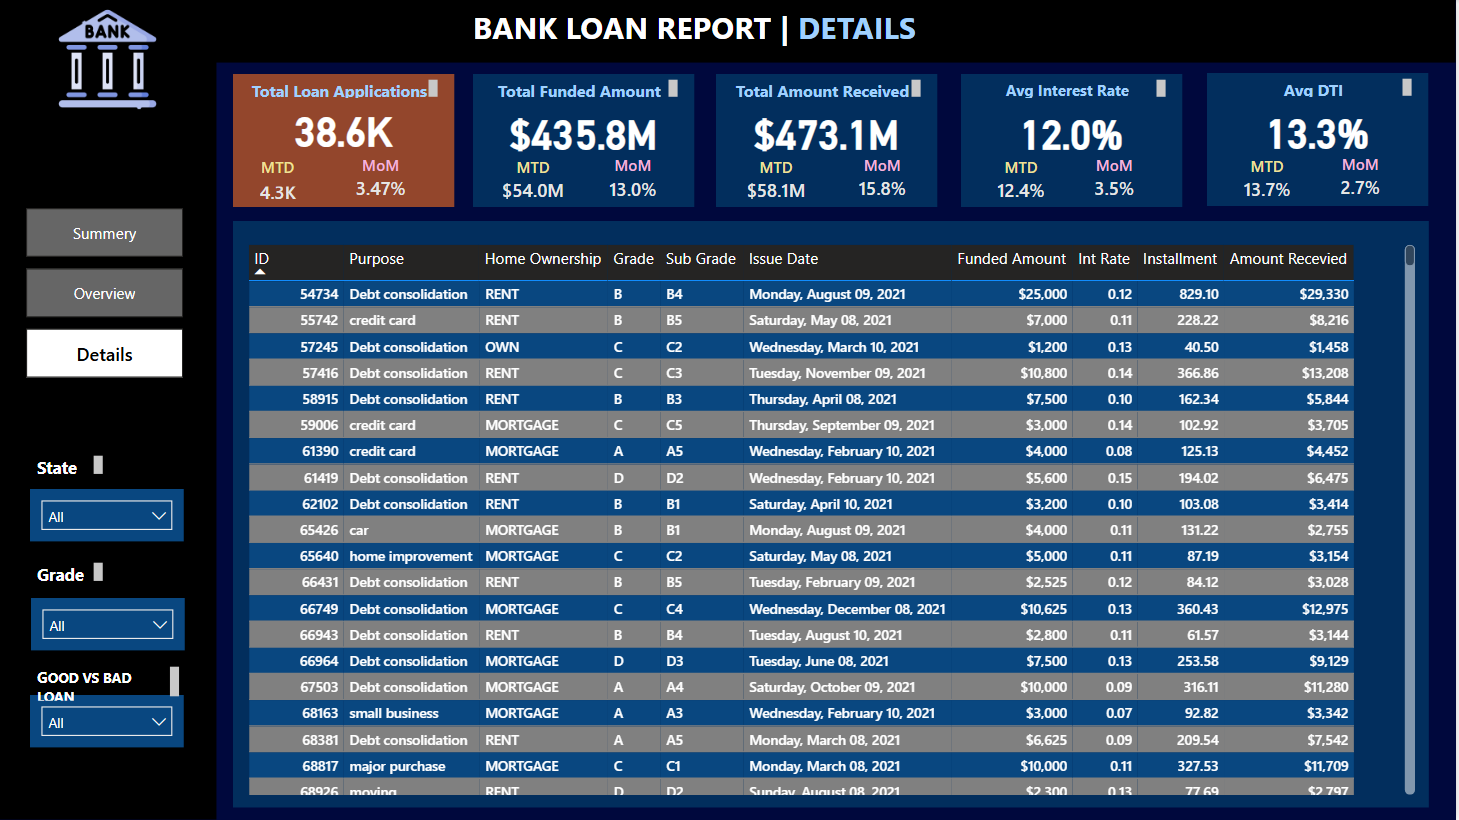

The dashboard page shown, as its layout file describes it:
{"tool":"powerbi","page":{"name":"Details","canvas":[1280,720],"ordinal":2},"visuals":[{"type":"shape","box":[0,36,192,683.8],"z":0},{"type":"shape","box":[1061.2,64.2,194.5,116.7],"z":0,"group":"g5"},{"type":"shape","box":[206.2,65.2,194.5,116.7],"z":0,"group":"g1"},{"type":"shape","box":[417.3,65.2,194.5,116.7],"z":0,"group":"g2"},{"type":"shape","box":[630.3,65.2,194.5,116.7],"z":0,"group":"g3"},{"type":"shape","box":[845.2,65.2,194.5,116.7],"z":0,"group":"g4"},{"type":"shape","box":[0,0,1280,55],"z":1000},{"type":"card","fields":{"Values":["Measures (2).Total Loan Application"]},"box":[241.2,91.5,123.5,42.8],"z":1000,"group":"g1"},{"type":"card","fields":{"Values":["Measures (2).Avg DTI"]},"box":[1066.8,92.1,182.9,44.7],"z":1000,"group":"g5"},{"type":"card","fields":{"Values":["Measures (2).Total Funded Amount"]},"box":[422.9,93.1,182.9,44.7],"z":1000,"group":"g2"},{"type":"card","fields":{"Values":["Measures (2).Total Amount Recevied"]},"box":[635.9,93.1,182.9,44.7],"z":1000,"group":"g3"},{"type":"card","fields":{"Values":["Measures (2).Avg Interest Rate"]},"box":[850.8,93.1,182.9,44.7],"z":1000,"group":"g4"},{"type":"textbox","box":[411.4,0,457.1,47.7],"z":2000},{"type":"textbox","box":[1070.9,64.2,175.1,26.3],"z":2000,"group":"g5"},{"type":"textbox","box":[215.9,65.2,175.1,26.3],"z":2000,"group":"g1"},{"type":"textbox","box":[427,65.2,175.1,26.3],"z":2000,"group":"g2"},{"type":"textbox","box":[640,65.2,175.1,26.3],"z":2000,"group":"g3"},{"type":"textbox","box":[854.9,65.2,175.1,26.3],"z":2000,"group":"g4"},{"type":"group","id":"g1","title":"Group 1","box":[206.2,65.2,194.5,116.7],"z":3000},{"type":"card","title":"MTD","fields":{"Values":["Measures (2).MTD Avg DTI"]},"box":[1072.6,137,82.7,42.8],"z":3000,"group":"g5"},{"type":"card","title":"MTD","fields":{"Values":["Measures (2).MTD Loan Funded Amount"]},"box":[428.7,138,82.7,42.8],"z":3000,"group":"g2"},{"type":"card","title":"MTD","fields":{"Values":["Measures (2).MTD total Amount Recived"]},"box":[641.7,138,82.7,42.8],"z":3000,"group":"g3"},{"type":"card","title":"MTD","fields":{"Values":["Measures (2).MTD Avg Int Rate"]},"box":[856.6,138,82.7,42.8],"z":3000,"group":"g4"},{"type":"card","title":"MTD","fields":{"Values":["Measures (2).MTD Loan Application"]},"box":[215.9,138.1,59.3,39.9],"z":3000,"group":"g1"},{"type":"group","id":"g2","title":"Group 1","box":[417.3,65.2,194.5,117.5],"z":4000},{"type":"card","title":"MoM","fields":{"Values":["Measures (2).MOM DTI"]},"box":[1167,135,58.4,44.7],"z":4000,"group":"g5"},{"type":"card","title":"MoM","fields":{"Values":["Measures (2).MOM Funded Amount"]},"box":[523.1,136,70,46.7],"z":4000,"group":"g2"},{"type":"card","title":"MoM","fields":{"Values":["Measures (2).MOM Total Amont Receivd"]},"box":[741.9,136,69.1,44.7],"z":4000,"group":"g3"},{"type":"card","title":"MoM","fields":{"Values":["Measures (2).MOM Avg int Rate"]},"box":[951,136,58.4,44.7],"z":4000,"group":"g4"},{"type":"card","title":"MoM","fields":{"Values":["Measures (2).MOM Total Application"]},"box":[307.4,136.2,57.4,45.7],"z":4000,"group":"g1"},{"type":"group","id":"g3","title":"Group 1","box":[630.3,65.2,194.5,116.7],"z":5000},{"type":"group","id":"g4","title":"Group 1","box":[845.2,65.2,194.5,116.7],"z":6000},{"type":"group","id":"g5","title":"Group 1","box":[1061.2,64.2,194.5,116.7],"z":7000},{"type":"slicer","fields":{"Values":["financial_loan.address_state"]},"box":[28.1,429.4,135.2,45.7],"z":8000},{"type":"textbox","box":[29,395.1,68.5,28.1],"z":9000},{"type":"slicer","fields":{"Values":["financial_loan.sub_grade"]},"box":[29,525.1,135.2,45.7],"z":10000},{"type":"textbox","box":[29,489.1,68.5,28.1],"z":11000},{"type":"slicer","fields":{"Values":["financial_loan.Good And Bad Loan"]},"box":[28.2,609.8,135.2,45.7],"z":12000},{"type":"textbox","box":[29,580.4,135.2,40.4],"z":13000},{"type":"shape","box":[206.3,194,1050.1,515.4],"z":14000},{"type":"tableEx","fields":{"Values":["financial_loan.id","financial_loan.purpose","financial_loan.home_ownership","financial_loan.grade","financial_loan.sub_grade","financial_loan.issue_date","Measures (2).Total Funded Amount","Sum(financial_loan.int_rate)","Sum(financial_loan.installment)","Measures (2).Total Amount Recevied"]},"box":[214.2,209.9,1035.2,493.5],"z":15000},{"type":"pageNavigator","box":[24.6,182.6,138.7,149.3],"z":16000},{"type":"image","box":[45.7,0,101,102.7],"z":17000}]}

Visuals, with their boxes in screenshot pixels (x1, y1, x2, y2), scaled from the page's 1280x720 canvas onto the 1459x820 screenshot:
shape: rect(0, 41, 219, 819)
shape: rect(1210, 73, 1431, 206)
shape: rect(235, 74, 457, 207)
shape: rect(476, 74, 697, 207)
shape: rect(718, 74, 940, 207)
shape: rect(963, 74, 1185, 207)
shape: rect(0, 0, 1458, 63)
card - Measures (2).Total Loan Application: rect(275, 104, 416, 153)
card - Measures (2).Avg DTI: rect(1216, 105, 1424, 156)
card - Measures (2).Total Funded Amount: rect(482, 106, 691, 157)
card - Measures (2).Total Amount Recevied: rect(725, 106, 933, 157)
card - Measures (2).Avg Interest Rate: rect(970, 106, 1178, 157)
textbox: rect(469, 0, 990, 54)
textbox: rect(1221, 73, 1420, 103)
textbox: rect(246, 74, 446, 104)
textbox: rect(487, 74, 686, 104)
textbox: rect(730, 74, 929, 104)
textbox: rect(974, 74, 1174, 104)
"Group 1" group: rect(235, 74, 457, 207)
"MTD" card: rect(1223, 156, 1317, 205)
"MTD" card: rect(489, 157, 583, 206)
"MTD" card: rect(731, 157, 826, 206)
"MTD" card: rect(976, 157, 1071, 206)
"MTD" card: rect(246, 157, 314, 203)
"Group 1" group: rect(476, 74, 697, 208)
"MoM" card: rect(1330, 154, 1397, 205)
"MoM" card: rect(596, 155, 676, 208)
"MoM" card: rect(846, 155, 924, 206)
"MoM" card: rect(1084, 155, 1151, 206)
"MoM" card: rect(350, 155, 416, 207)
"Group 1" group: rect(718, 74, 940, 207)
"Group 1" group: rect(963, 74, 1185, 207)
"Group 1" group: rect(1210, 73, 1431, 206)
slicer - financial_loan.address_state: rect(32, 489, 186, 541)
textbox: rect(33, 450, 111, 482)
slicer - financial_loan.sub_grade: rect(33, 598, 187, 650)
textbox: rect(33, 557, 111, 589)
slicer - financial_loan.Good And Bad Loan: rect(32, 694, 186, 747)
textbox: rect(33, 661, 187, 707)
shape: rect(235, 221, 1432, 808)
tableEx - financial_loan.id x financial_loan.purpose: rect(244, 239, 1424, 801)
pageNavigator: rect(28, 208, 186, 378)
image: rect(52, 0, 167, 117)
